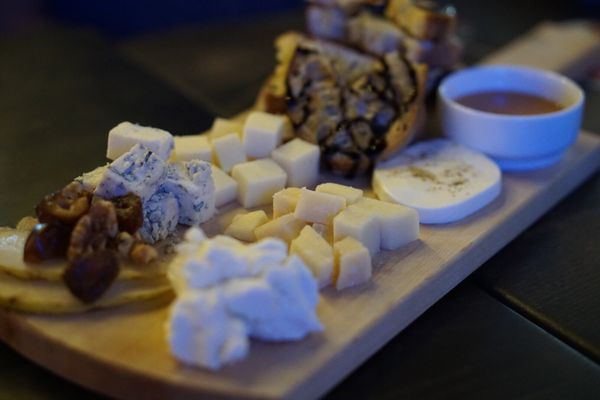sushi: (435, 63, 586, 169)
